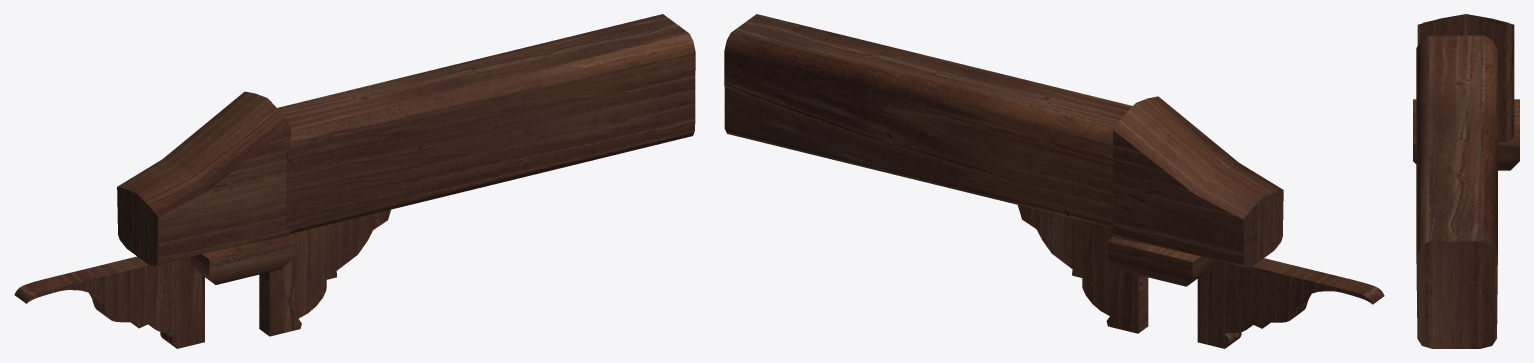
The model's file is SM_R_Beam_33.fbx.
3 renders of one model, left to right at view 1: azimuth 30°, elevation 25°; view 2: azimuth 150°, elevation 25°; view 3: azimuth 270°, elevation 25°, orthographic. The views are drawn at different scales.
Visible parts, largest first — view 1: SM_R_Beam_33; view 2: SM_R_Beam_33; view 3: SM_R_Beam_33.
Part boxes in pixels (x1=…): SM_R_Beam_33: x1=14, y1=14, x2=695, y2=348; SM_R_Beam_33: x1=724, y1=14, x2=1384, y2=348; SM_R_Beam_33: x1=1413, y1=14, x2=1519, y2=348.
Size of the model in its own units: 304 by 41.35 by 103.
3 materials, 3 textured.
